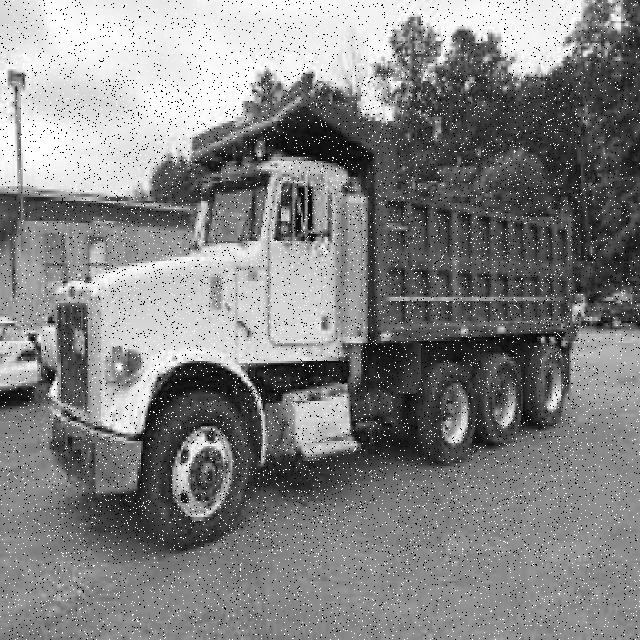Truck- Multi-Axle: (47, 73, 580, 554)
